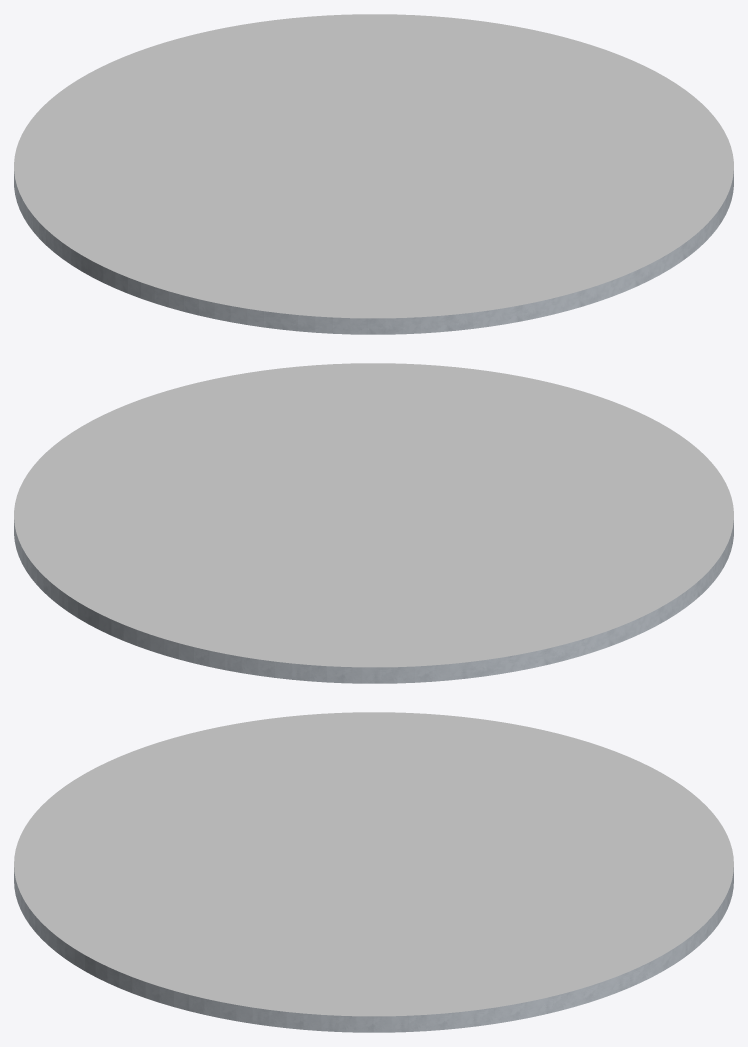
File: Podium.gltf
3 renders of one model, top to bottom at view 1: azimuth 30°, elevation 25°; view 2: azimuth 150°, elevation 25°; view 3: azimuth 270°, elevation 25°, orthographic.
Visible parts, largest first — view 1: Cylinder; view 2: Cylinder; view 3: Cylinder.
Part boxes in pixels (x1=…): Cylinder: x1=14, y1=14, x2=733, y2=334; Cylinder: x1=14, y1=363, x2=733, y2=683; Cylinder: x1=14, y1=712, x2=733, y2=1032.
Size of the model in its own units: 20 by 0.5 by 20.
